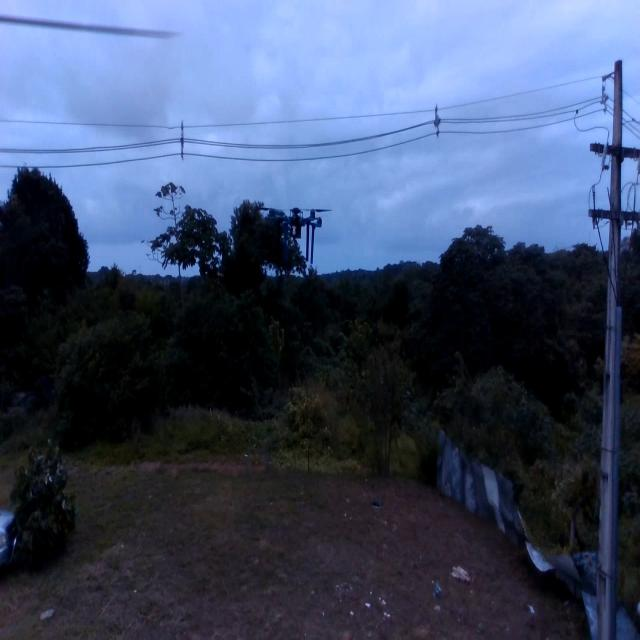-uav-: (267, 188, 333, 268)
